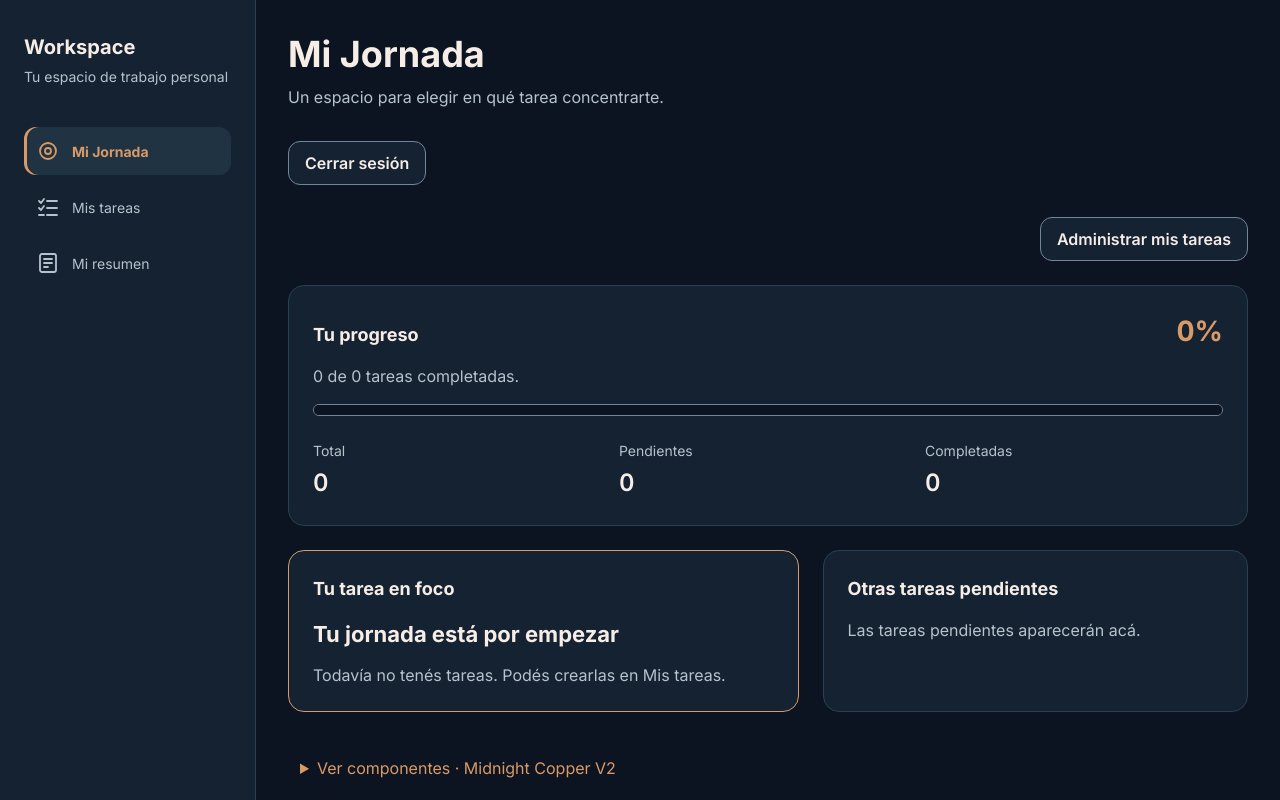
Test: Navegación provisional › redirige el inicio a Mi Jornada y permite navegar a Mis tareas
Check: the heading "Mi Jornada" is shown, box [288,32,485,77]
Click the link "Mis tareas" at point(88, 207), box [36,195,140,219]
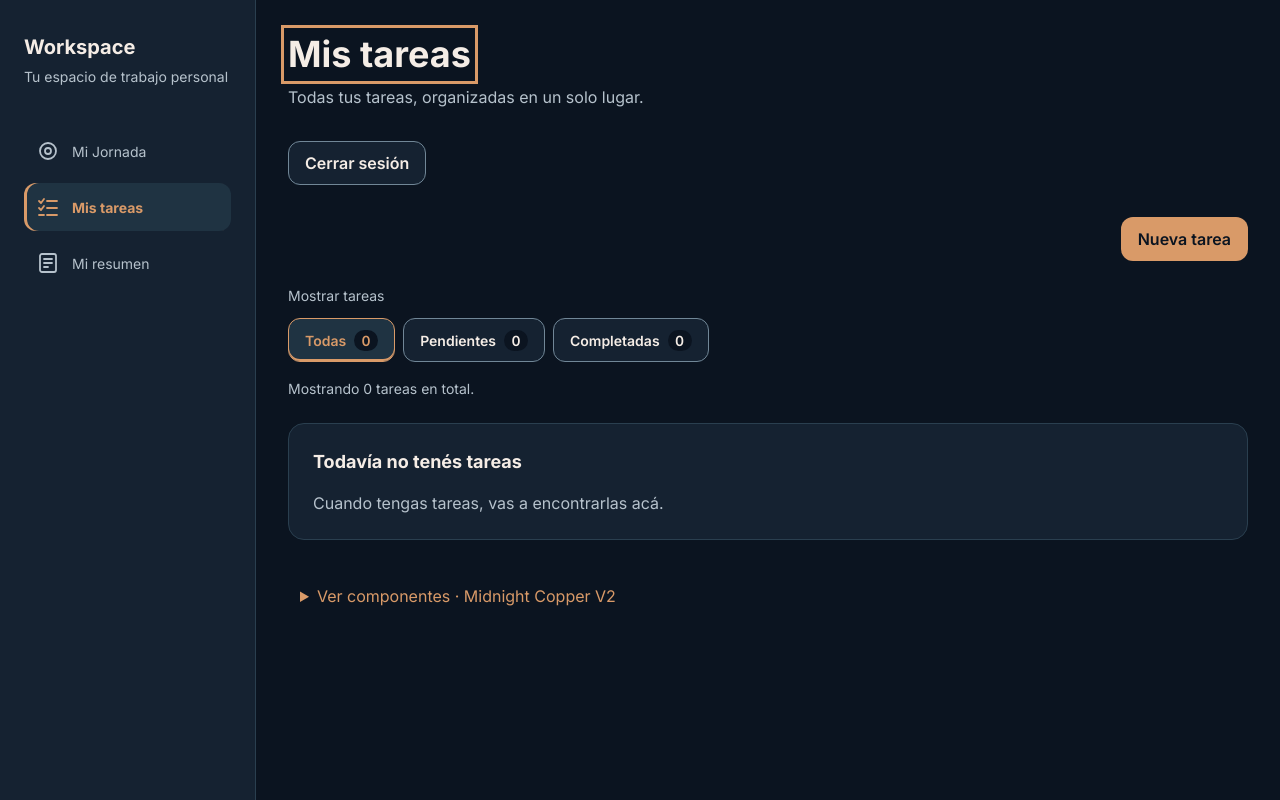
Check: the heading "Mis tareas" is shown, box [288,32,471,77]
